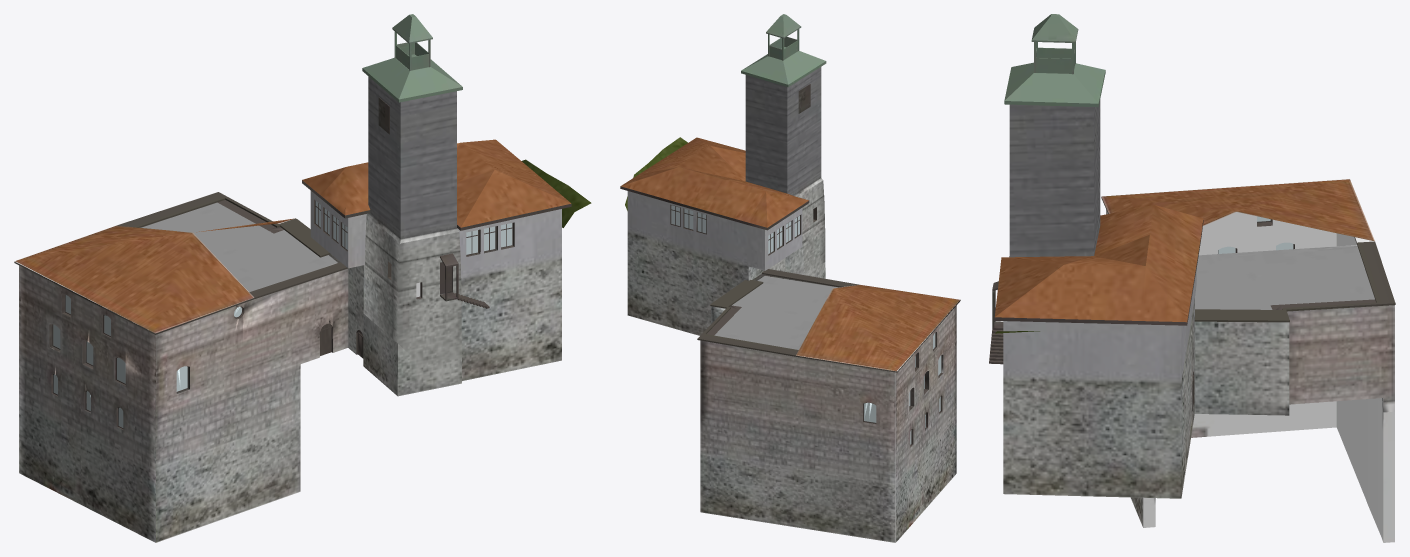
Rendered from sf-revival.glb.
The picture shows the model from 3 angles, left to right: view 1: azimuth 30°, elevation 25°; view 2: azimuth 150°, elevation 25°; view 3: azimuth 270°, elevation 25°; orthographic projection. The views are drawn at different scales.
Parts seen in each view (by area): view 1: House; view 2: House; view 3: House.
Boxes of the visible parts, x1,y1,x2,y2 form: House: [14, 14, 591, 542]; House: [620, 14, 960, 542]; House: [989, 14, 1395, 542].
Bounding box in the file's own units: 14.51 × 16 × 10.66.
2 materials, 1 textured.
